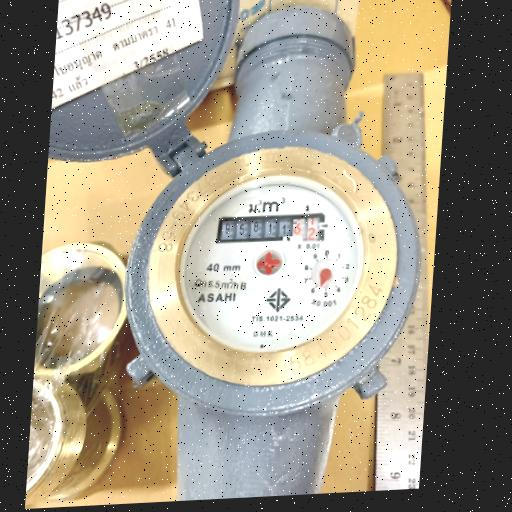1: (264, 219, 277, 237), (279, 218, 290, 237)
2: (307, 218, 318, 240)
5: (237, 220, 249, 239)
6: (293, 218, 305, 235)
8: (250, 220, 262, 238)
9: (221, 221, 234, 240)
border_water_meter_number: (217, 212, 327, 246)
